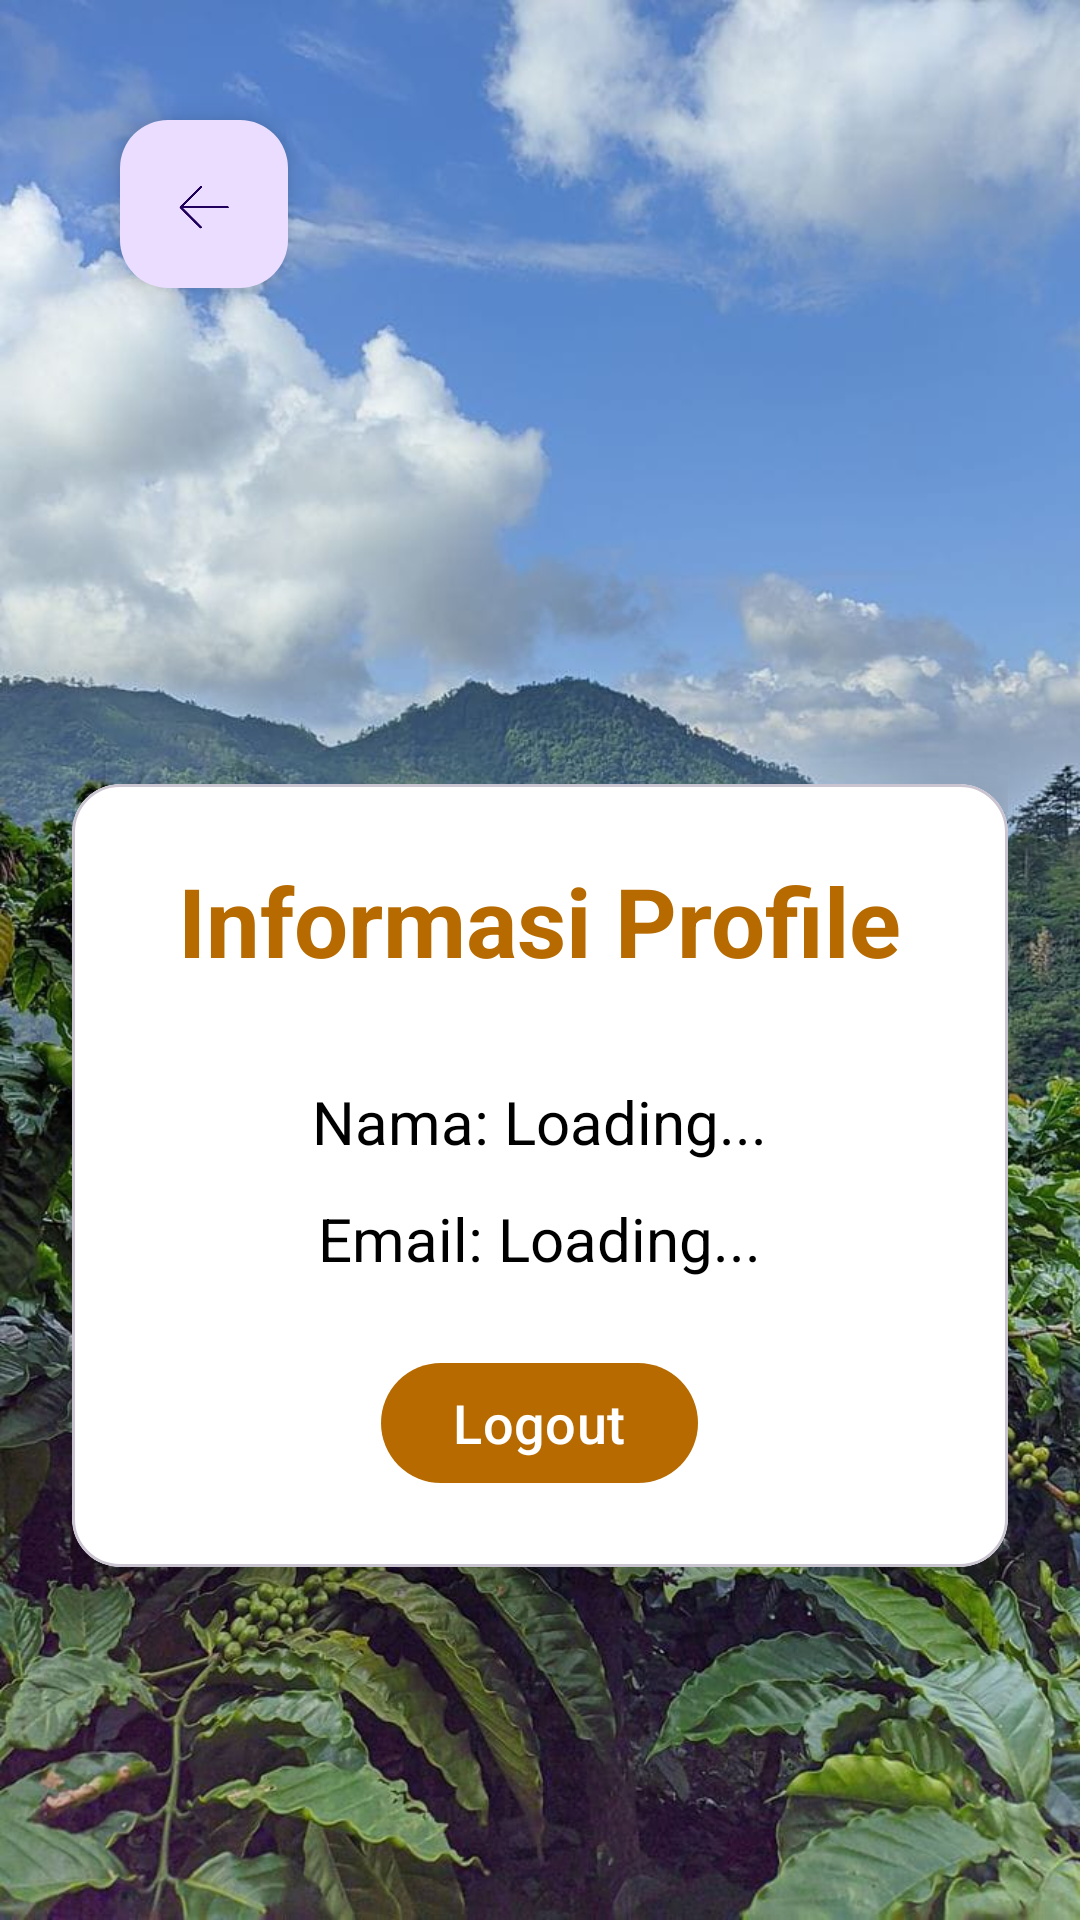

Screen size 1080*1920. Icon name, then its center in pixels as (x=x, y=y):
Kembali: (x=204, y=204)
